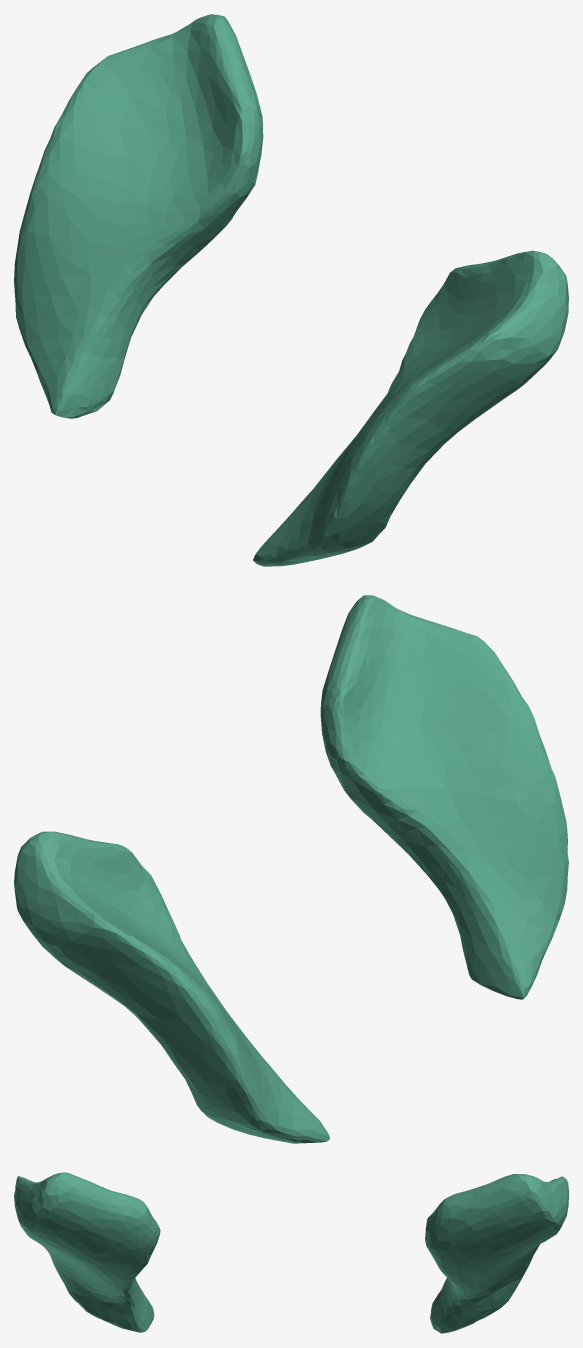
3 renders of one model, top to bottom at view 1: azimuth 30°, elevation 25°; view 2: azimuth 150°, elevation 25°; view 3: azimuth 270°, elevation 25°, orthographic. The views are drawn at different scales.
Parts seen in each view (by area): view 1: 630.obj; view 2: 630.obj; view 3: 630.obj.
Boxes of the visible parts, box(x1,y1,x2,y2) form: 630.obj: box(14, 14, 568, 566); 630.obj: box(14, 595, 568, 1143); 630.obj: box(14, 1172, 568, 1333).
Size of the model in its own units: 1516 by 1824 by 4193.
